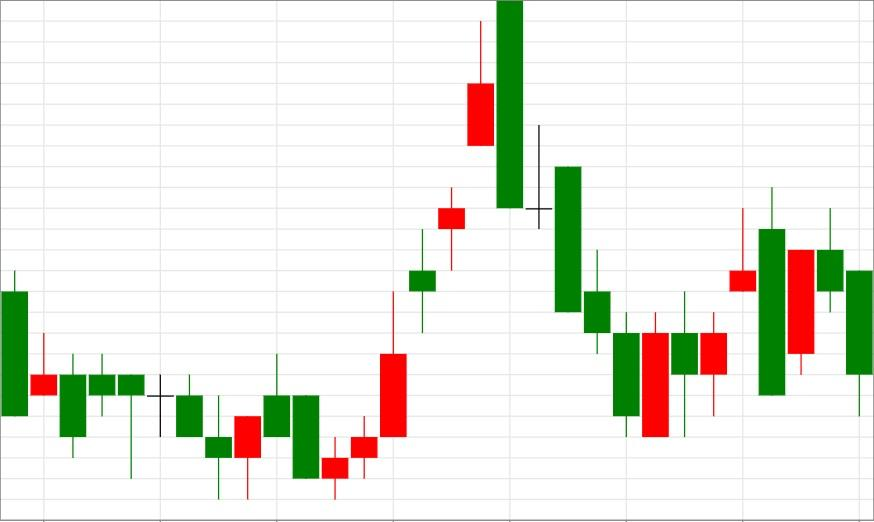bearish_engulfing_fall: (321, 0, 523, 499)
bullish_engulfing_rise: (495, 0, 670, 438)
